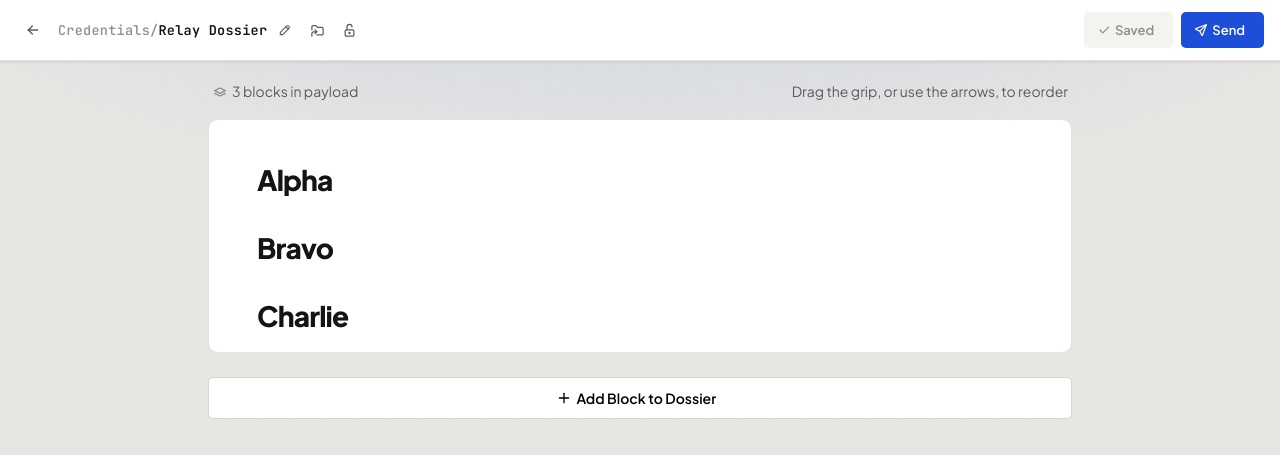
Test case: FileEditView — an attachment block holds a file the user chose › surfaces a send failure raised by the host, instead of swallowing it
Click the button "Send" at [1223, 30], box [1181,12,1264,48]
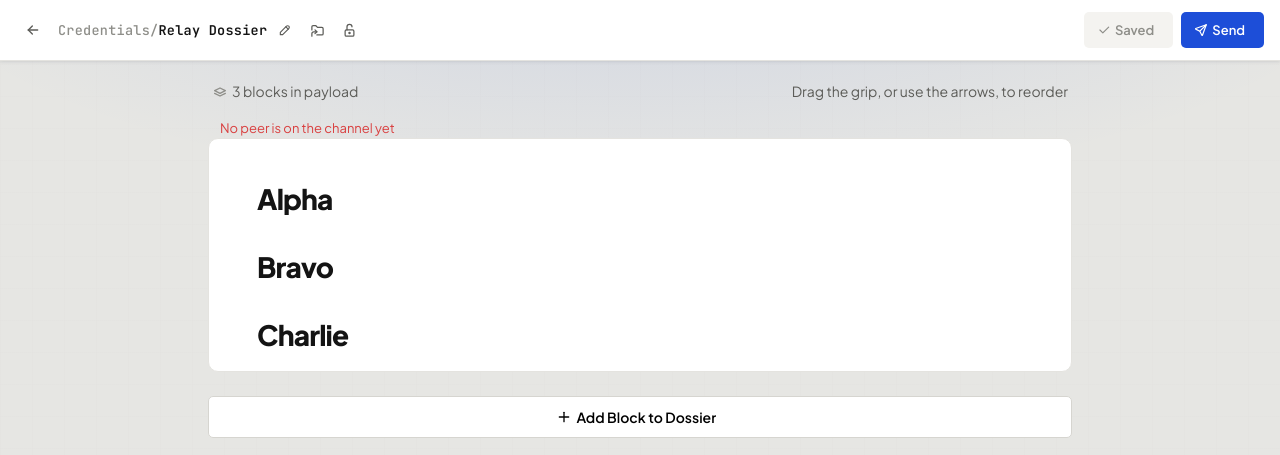
Expected: the message "No peer is on the channel yet" is shown, [220,120,395,136]
